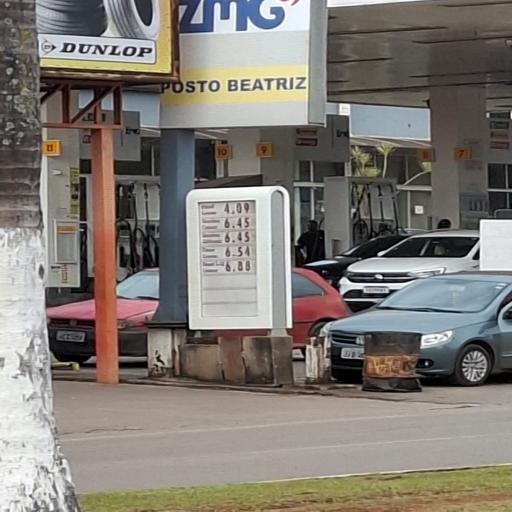S10: (202, 260, 226, 274)
S500: (201, 247, 219, 259)
placa: (187, 192, 271, 275)
preco: (224, 245, 252, 258), (225, 260, 252, 272)
